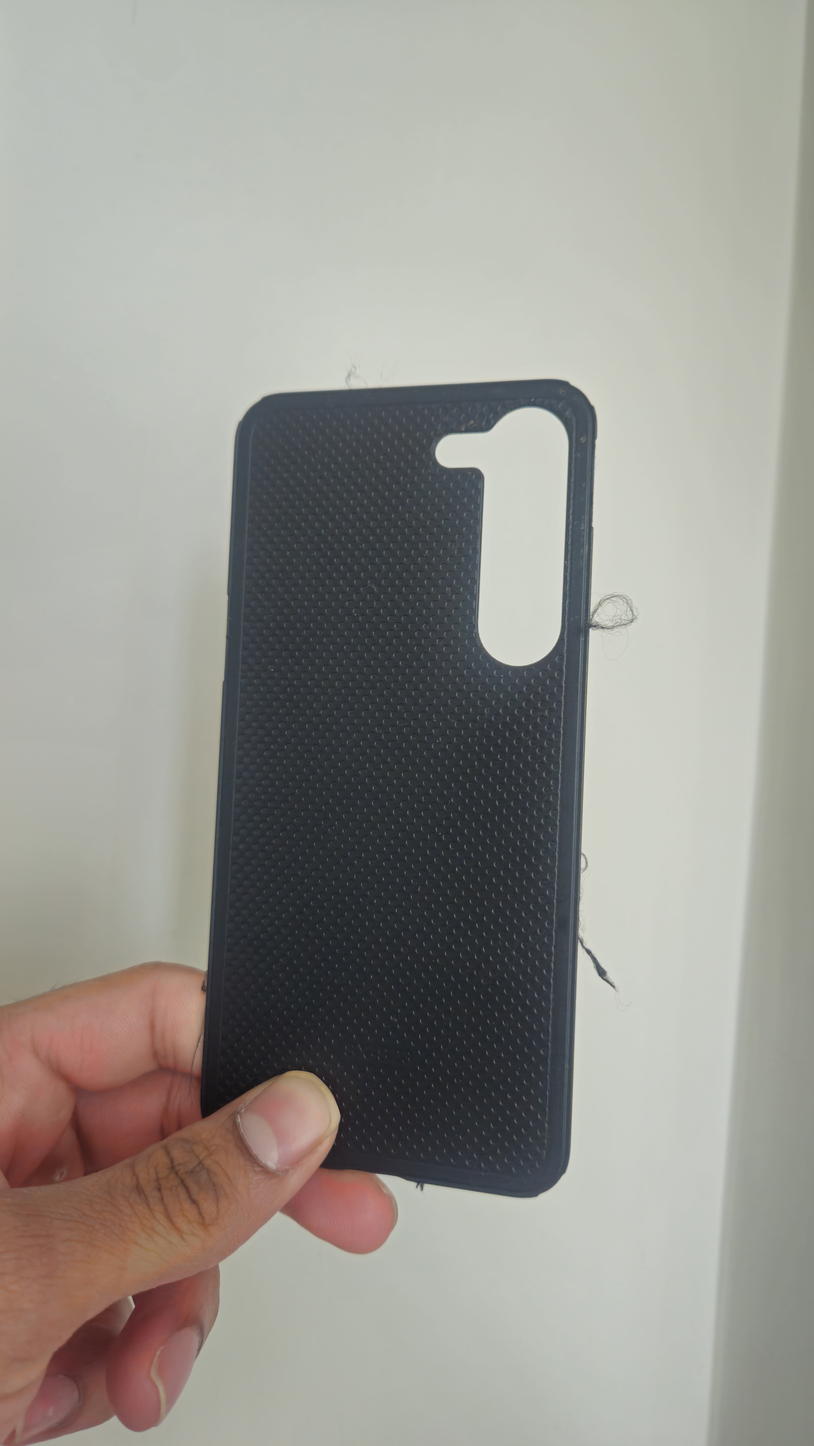garbage: (201, 380, 596, 1197)
